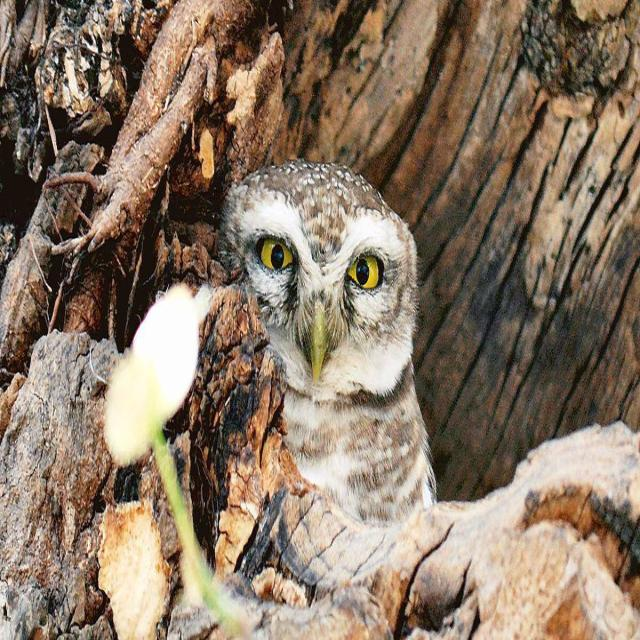Owl: (186, 153, 442, 598)
